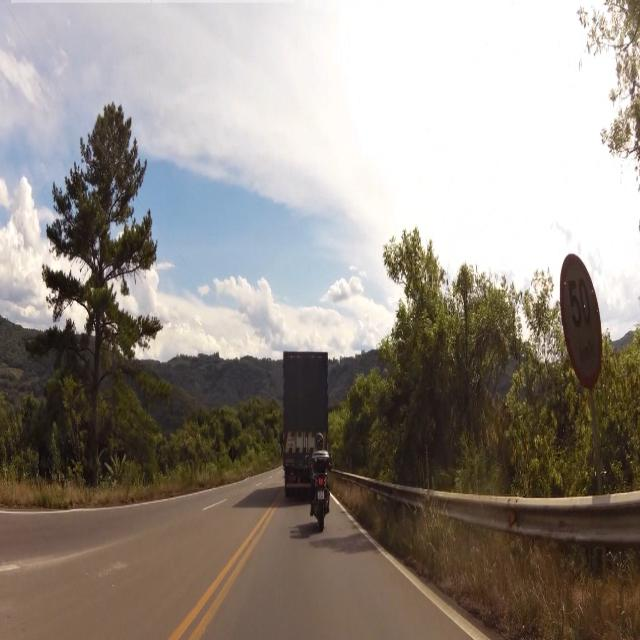R-19: (550, 245, 615, 402)
